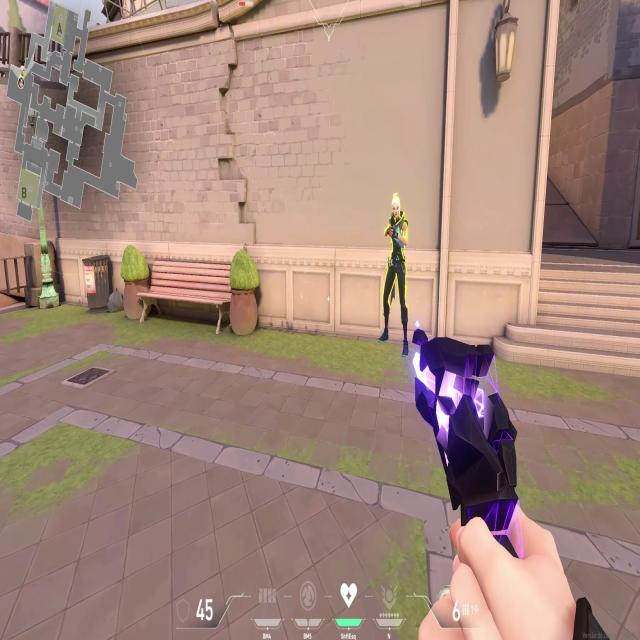head: (389, 194, 404, 222)
